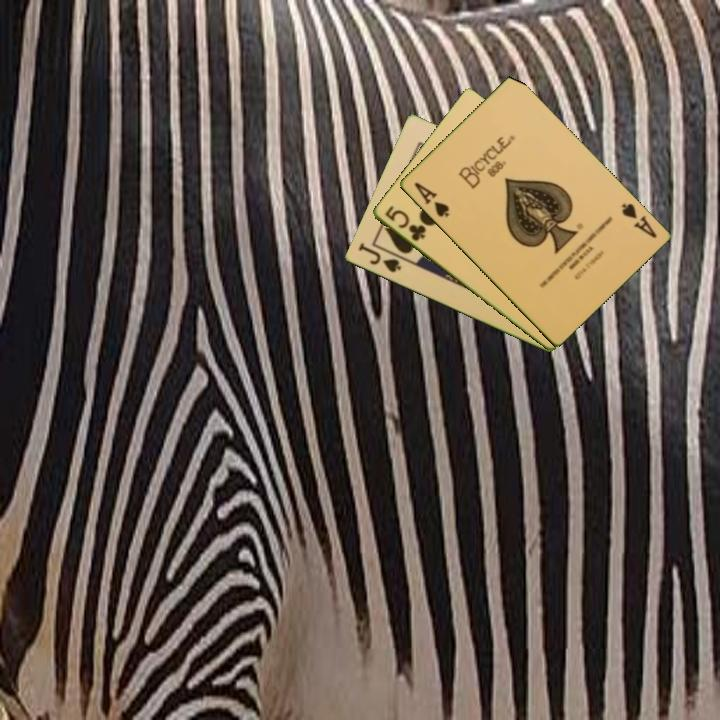5c: (381, 202, 429, 244)
As: (410, 178, 452, 221), (617, 199, 659, 241)
Js: (354, 239, 404, 276)
